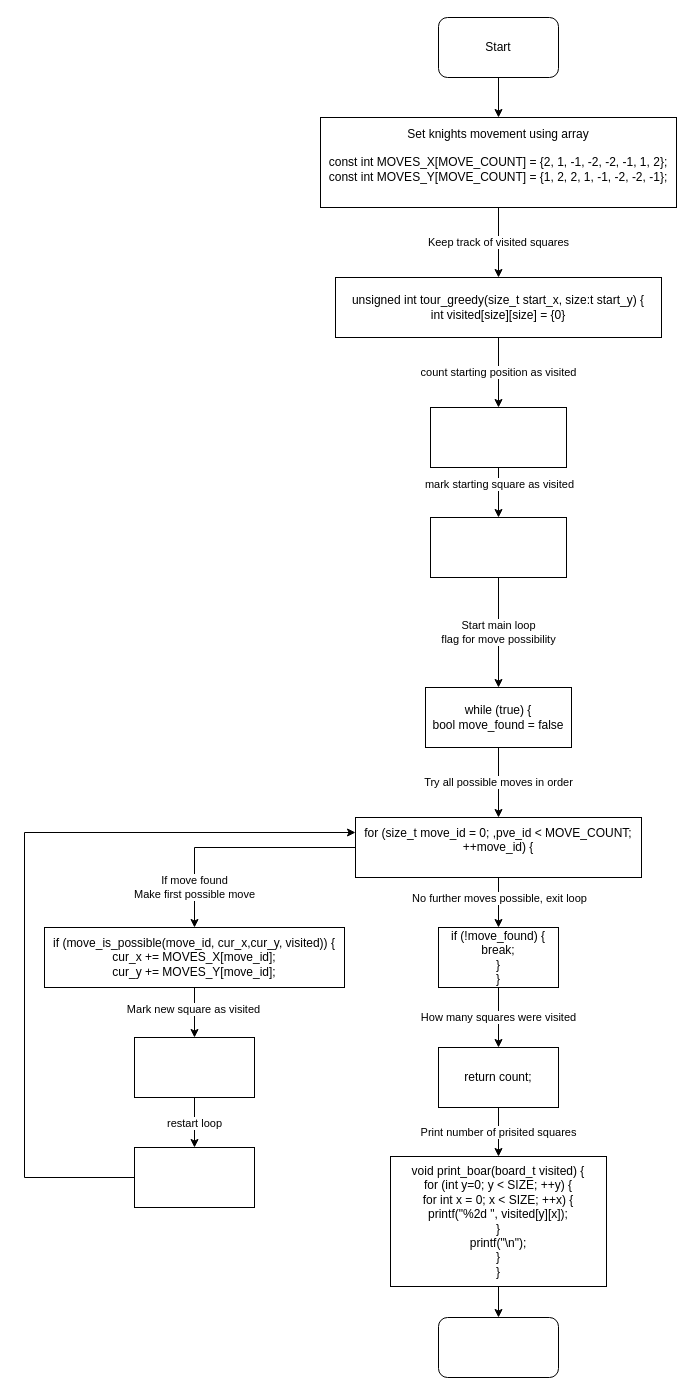
Image size: 694x1395. Some labels were removed from this diagram. The shapes that lost their labels are listed below. From the top down, each one's centre as x and y in pixels, then its label:
At point (498, 437): "unsigned int count = 1;".
At point (498, 547): "Visited{cur_y}{cur_x} = 1".
At point (194, 1067): "visited[cur_y][cur_x] = 1 count++;".
At point (194, 1177): "move_found = true; break; }".
At point (498, 1347): "End".
